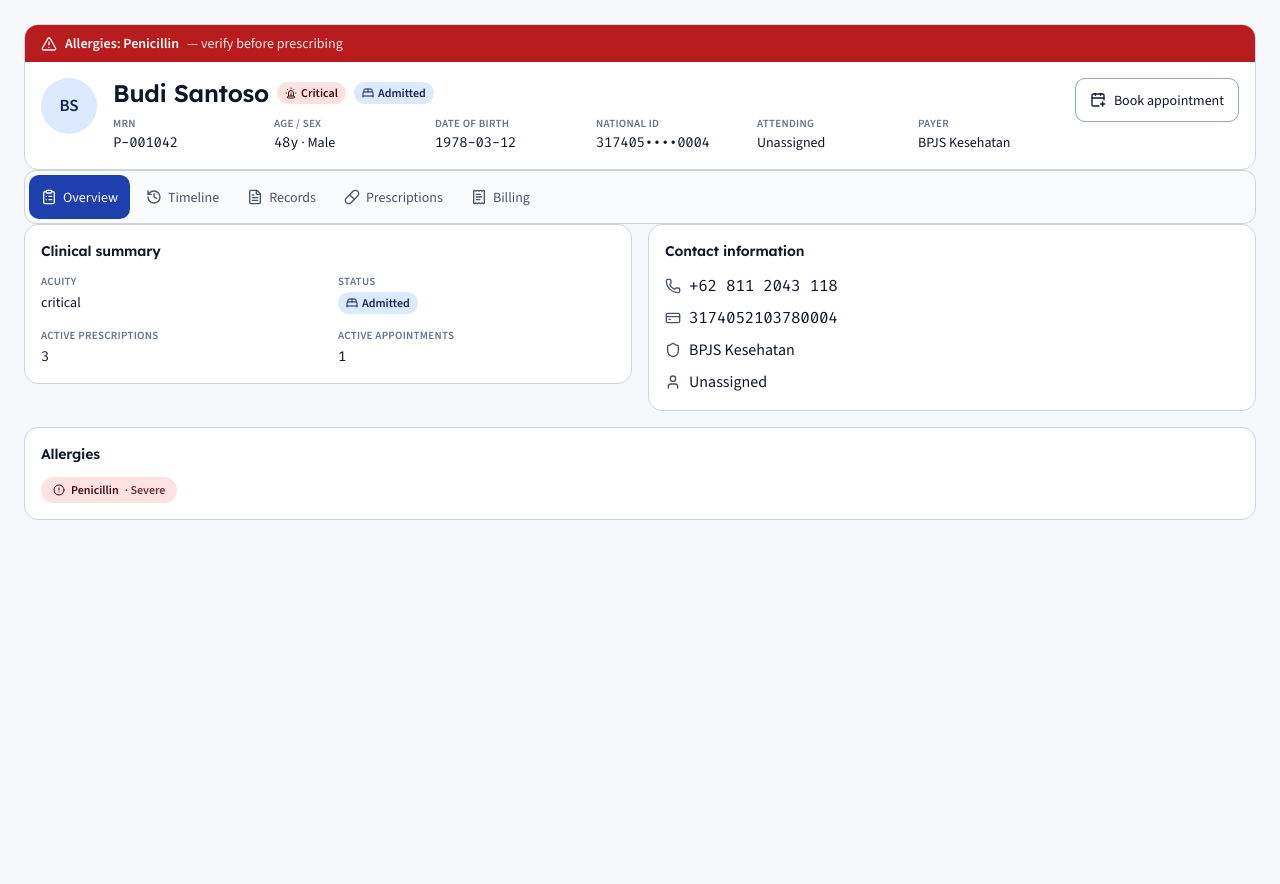
PatientDetailPage (#4) › switches to the timeline tab and lists clinical events
The image size is (1280, 884).
Expected: the heading "Budi Santoso" is shown, [113,78,269,108]
Click the tab "Timeline" at [183, 197], box [134,175,231,219]
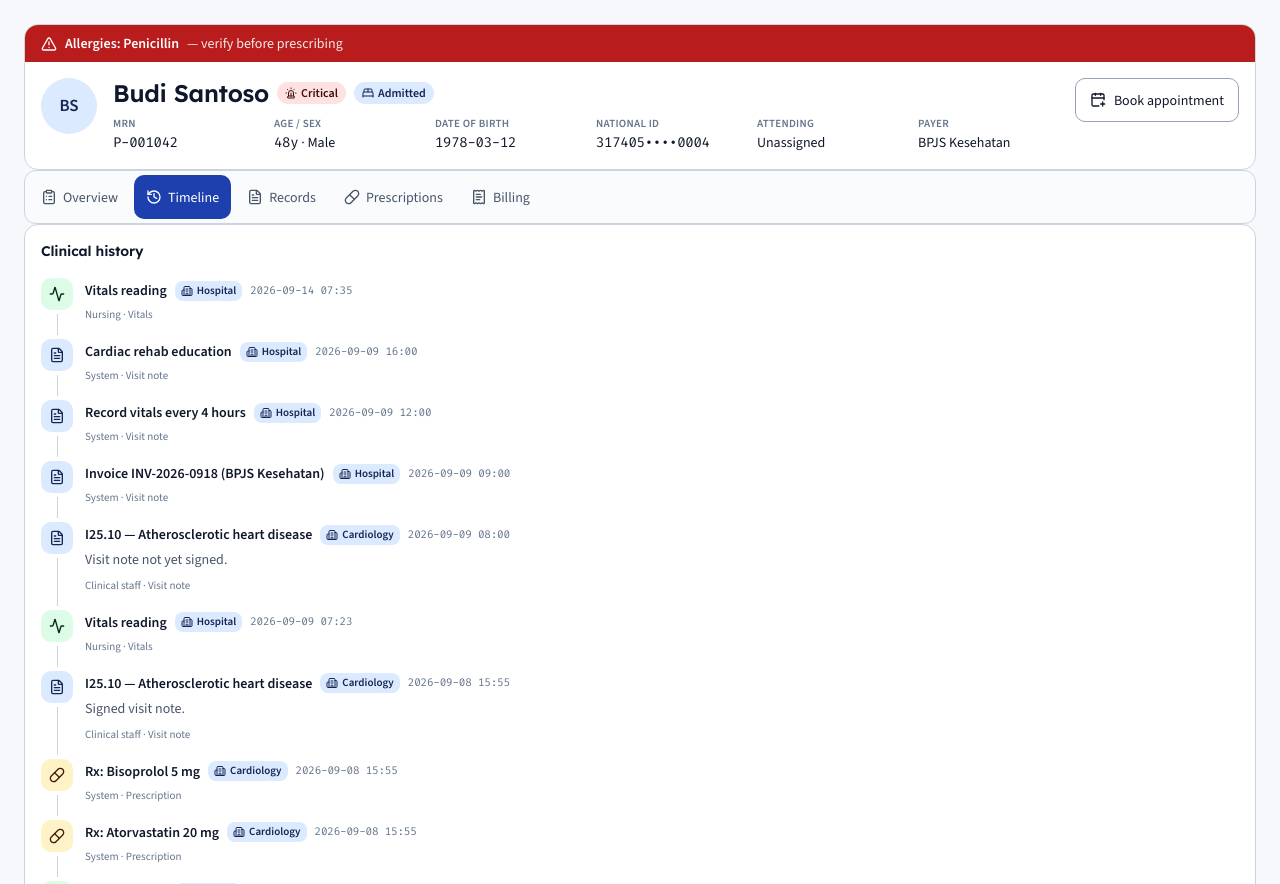
Expected: the tab "Prescriptions" is shown, [332,175,455,219]
Result: the heading "Clinical history" is shown at [41,242,143,260]
